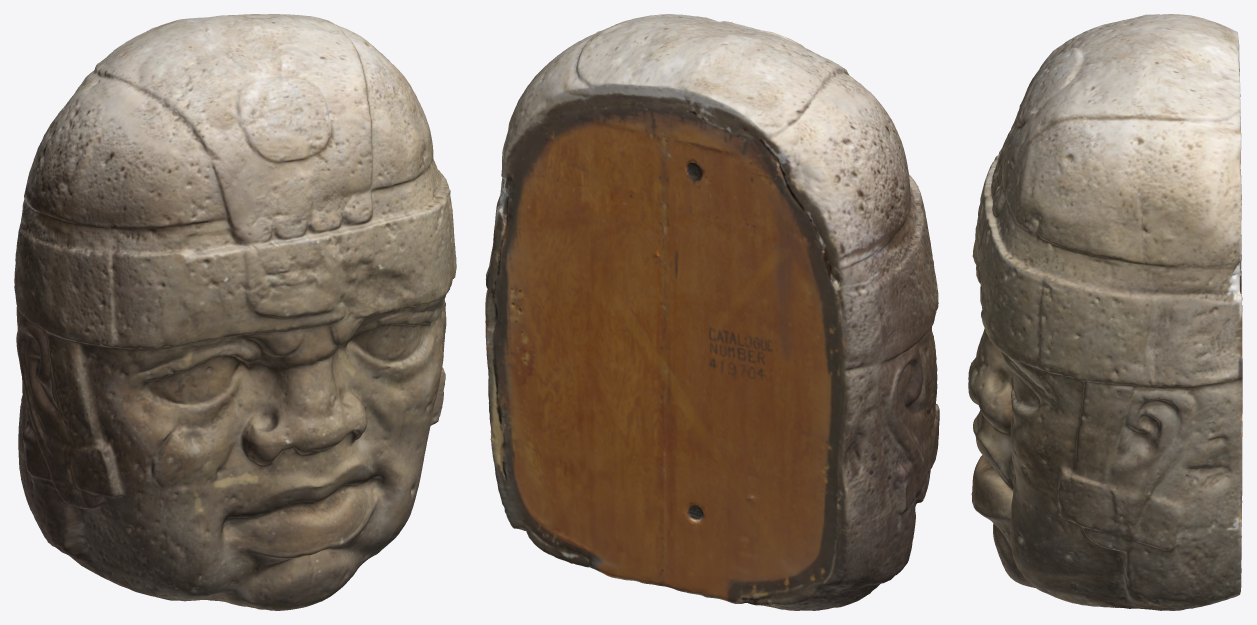
File: olmec-head.glb
The picture shows the model from 3 angles, left to right: view 1: azimuth 30°, elevation 25°; view 2: azimuth 150°, elevation 25°; view 3: azimuth 270°, elevation 25°; orthographic projection. The views are drawn at different scales.
Size of the model in its own units: 2.09 by 2.72 by 1.26.
Materials: 1 (1 with a texture image).
